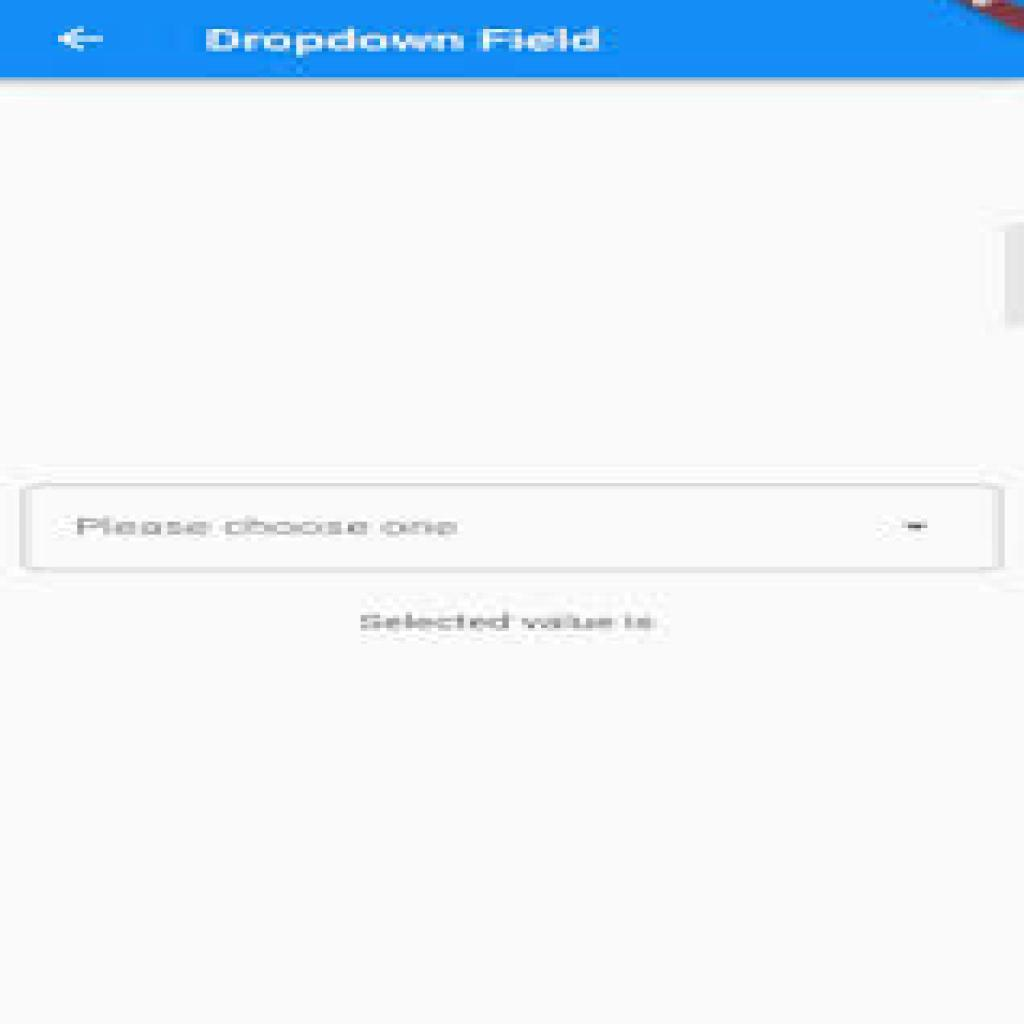dropdown: (17, 486, 1000, 574)
